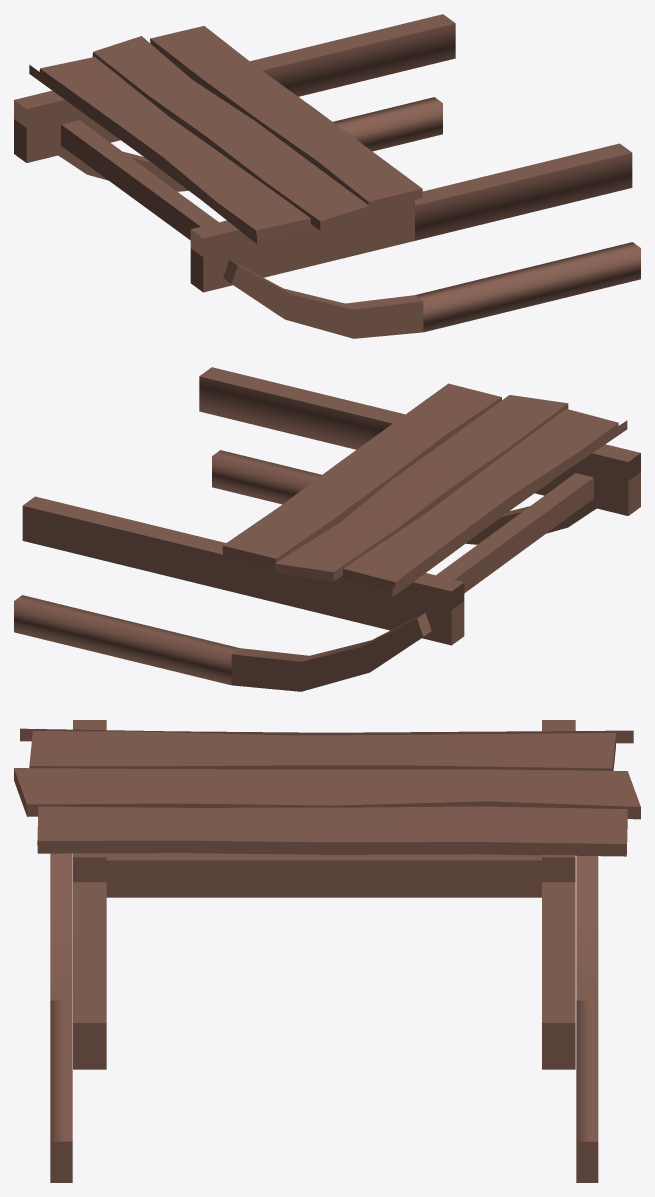
3 views of the same model, one above another, from view 1: azimuth 30°, elevation 25°; view 2: azimuth 150°, elevation 25°; view 3: azimuth 270°, elevation 25° (orthographic). The views are drawn at different scales.
Parts seen in each view (by area): view 1: wooden_support_1; view 2: wooden_support_1; view 3: wooden_support_1.
Boxes of the visible parts, x1,y1,x2,y2 form: wooden_support_1: (14, 14, 640, 338); wooden_support_1: (14, 367, 640, 691); wooden_support_1: (14, 720, 640, 1182).
Bounding box in the file's own units: 239 × 79.49 × 227.
